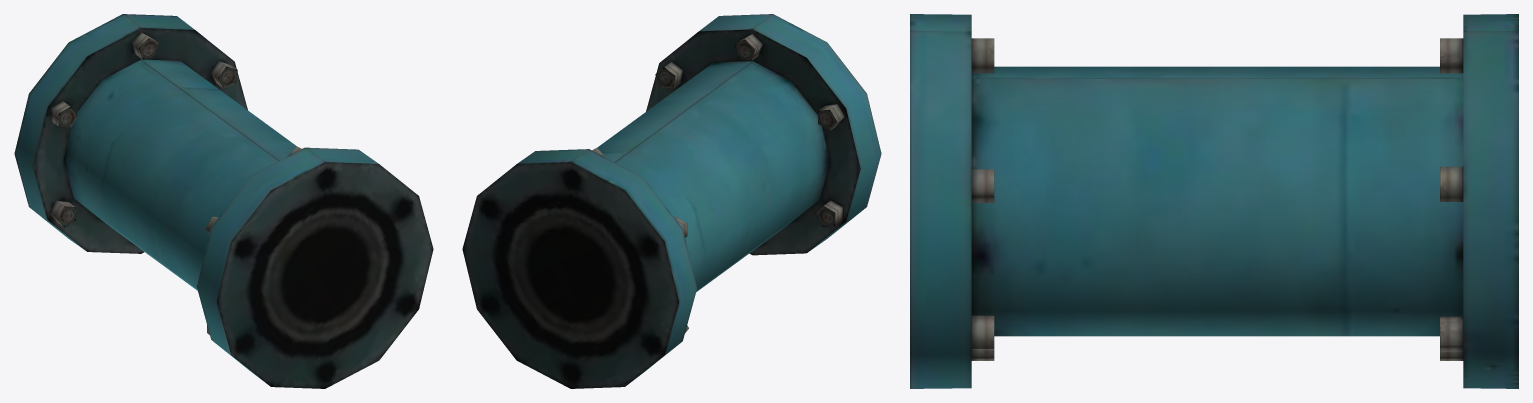
3 views of the same model, side by side, from view 1: azimuth 30°, elevation 25°; view 2: azimuth 150°, elevation 25°; view 3: azimuth 270°, elevation 25° (orthographic). The views are drawn at different scales.
Parts seen in each view (by area): view 1: body0_model0_lod0_mesh0; view 2: body0_model0_lod0_mesh0; view 3: body0_model0_lod0_mesh0.
Part boxes in pixels (x1,y1,x2,y2): body0_model0_lod0_mesh0: [14, 14, 433, 388]; body0_model0_lod0_mesh0: [462, 14, 881, 388]; body0_model0_lod0_mesh0: [910, 14, 1518, 388].
Size of the model in its own units: 39.58 by 39.58 by 64.
1 material, 1 textured.
